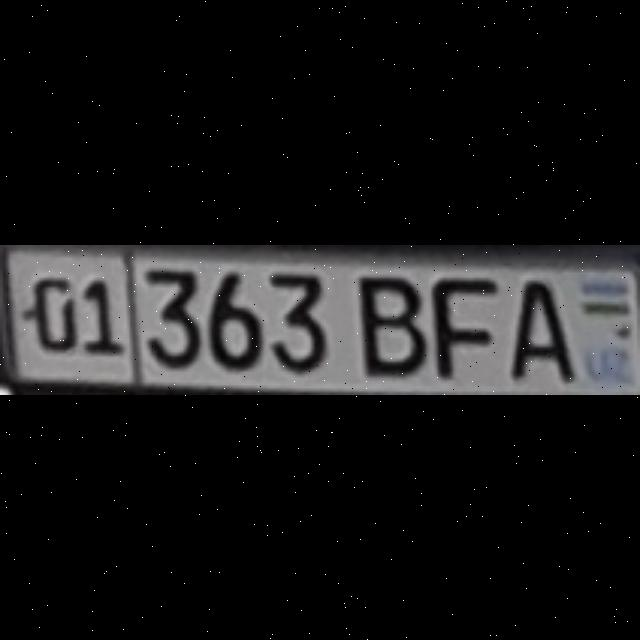0: (30, 276, 72, 350)
1: (79, 275, 121, 353)
3: (266, 268, 320, 372), (142, 266, 196, 366)
6: (205, 269, 259, 369)
A: (508, 278, 570, 382)
B: (353, 275, 422, 375)
F: (429, 275, 495, 375)
